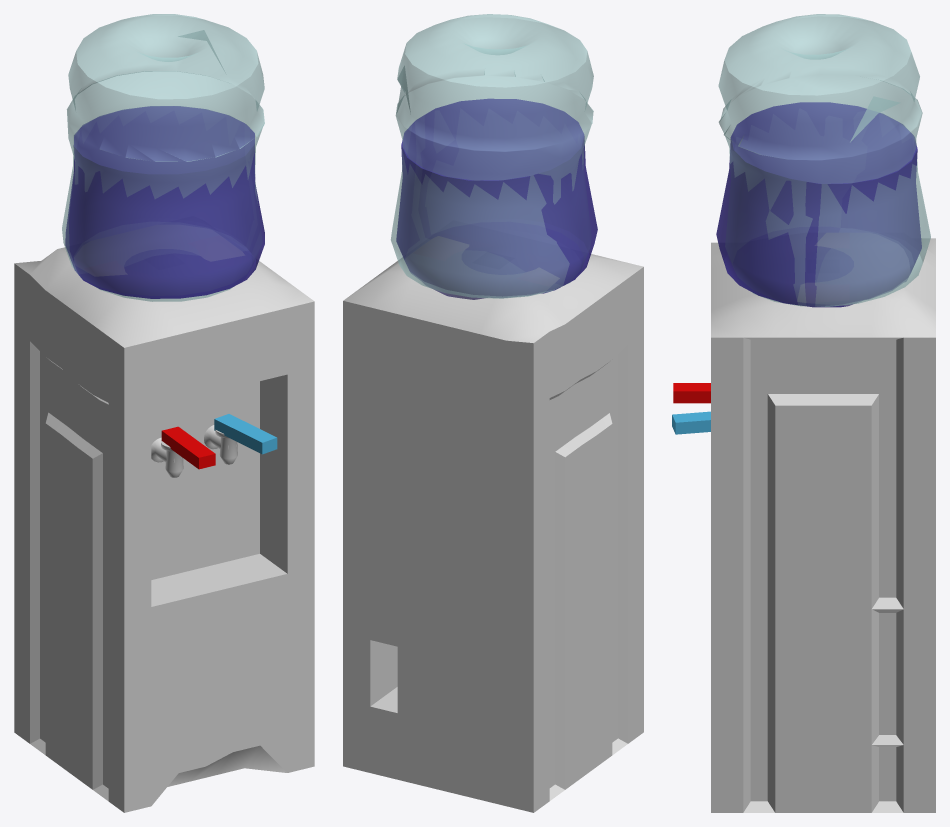
The model's file is water cooler.fbx.
3 renders of one model, left to right at view 1: azimuth 30°, elevation 25°; view 2: azimuth 150°, elevation 25°; view 3: azimuth 270°, elevation 25°, orthographic. The views are drawn at different scales.
Visible parts, largest first — view 1: pCylinder7, pCylinder6, pCylinder1, pCube3, pCube2; view 2: pCylinder7, pCylinder6, pCylinder1; view 3: pCylinder7, pCylinder6, pCylinder1, pCube3, pCube2.
Boxes of the visible parts, x1,y1,x2,y2 form: pCylinder7: (14,235,314,812); pCylinder6: (62,14,264,301); pCylinder1: (65,106,264,298); pCube3: (214,414,277,454); pCube2: (161,426,215,469); pCylinder7: (343,236,643,812); pCylinder6: (391,14,593,298); pCylinder1: (396,98,597,299); pCylinder7: (711,233,935,812); pCylinder6: (718,14,930,306); pCylinder1: (716,102,921,307); pCube3: (672,411,710,434); pCube2: (673,383,710,403).
Bounding box in the file's own units: 3 × 10.79 × 3.52.
